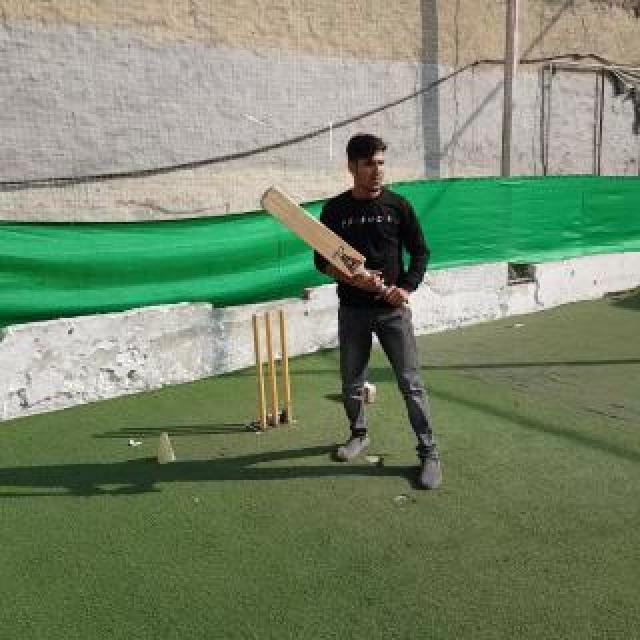bat: (260, 186, 410, 310)
